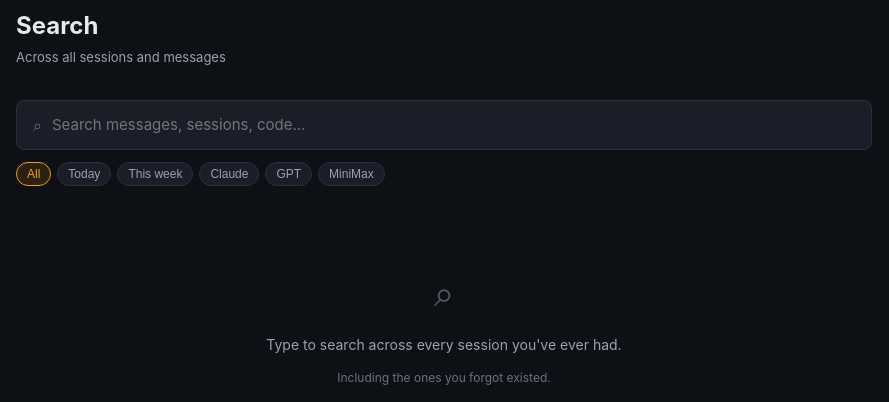
Test: SearchView › shows busy indicator while search is in flight
The image size is (889, 402).
Step 1. Type "hello" into the field with placeholder "Search messages, sessions, code…" → (452, 124), box top-left (50, 114), bottom-right (855, 135)
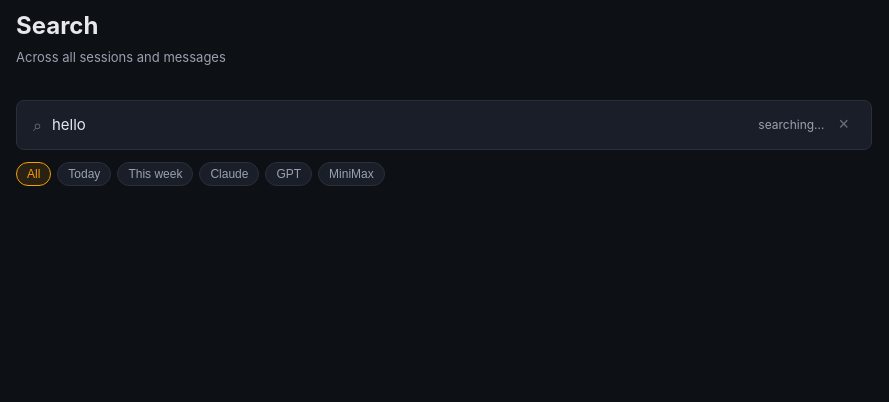
expect the text "searching…" is shown: met, box top-left (758, 116), bottom-right (824, 134)
